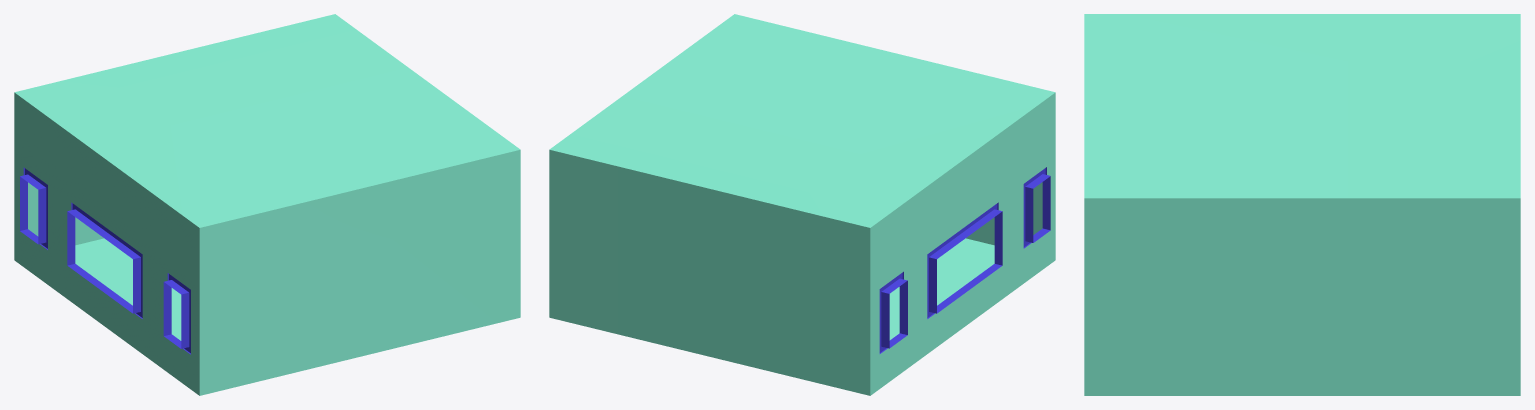
The model's file is Room.fbx.
3 renders of one model, left to right at view 1: azimuth 30°, elevation 25°; view 2: azimuth 150°, elevation 25°; view 3: azimuth 270°, elevation 25°, orthographic. The views are drawn at different scales.
Visible parts, largest first — view 1: Room; view 2: Room; view 3: Room.
Boxes of the visible parts, <box> form: Room: <box>14,14,520,395</box>; Room: <box>549,14,1055,395</box>; Room: <box>1084,14,1520,395</box>.
Size of the model in its own units: 1021 by 500 by 1000.
